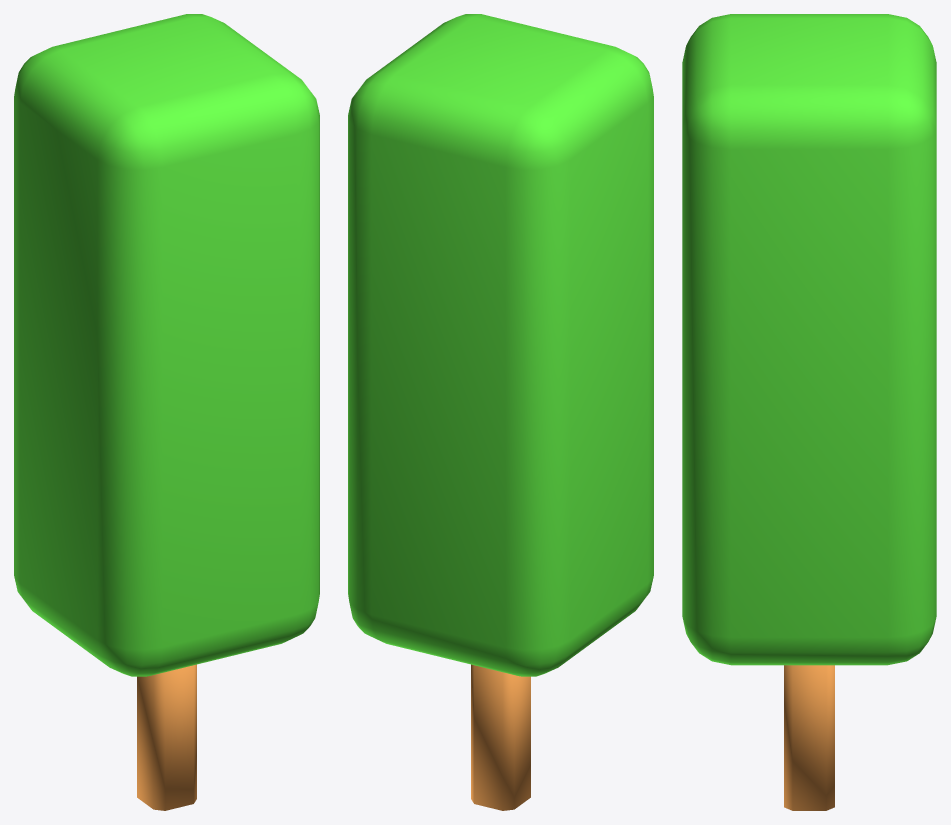
Rendered from treeSmall.glb.
3 views of the same model, side by side, from view 1: azimuth 30°, elevation 25°; view 2: azimuth 150°, elevation 25°; view 3: azimuth 270°, elevation 25° (orthographic).
Visible parts, largest first — view 1: Cube.040, Cube.041; view 2: Cube.040, Cube.041; view 3: Cube.040, Cube.041.
Part boxes in pixels (left/top/right/bottom): Cube.040: left=14, top=14, right=319, bottom=676; Cube.041: left=137, top=664, right=196, bottom=810; Cube.040: left=348, top=14, right=653, bottom=676; Cube.041: left=471, top=664, right=530, bottom=810; Cube.040: left=682, top=14, right=936, bottom=665; Cube.041: left=784, top=665, right=834, bottom=810.
Size of the model in its own units: 2 by 6.5 by 2.
Materials: 2 (2 with a texture image).
